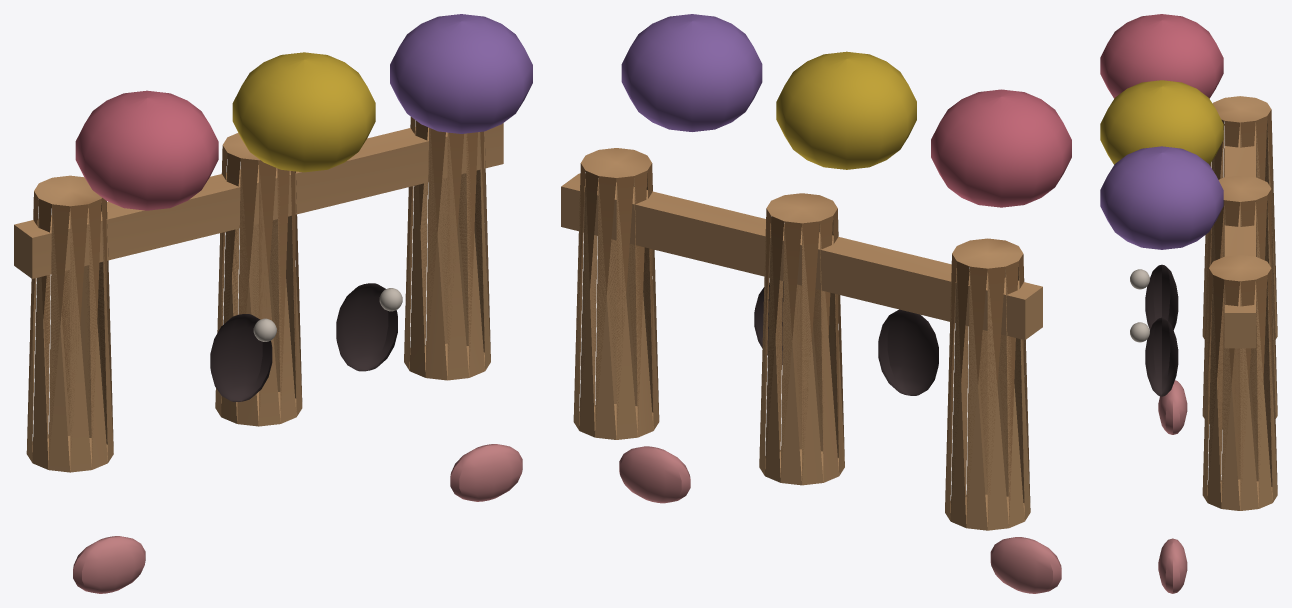
The picture shows the model from 3 angles, left to right: view 1: azimuth 30°, elevation 25°; view 2: azimuth 150°, elevation 25°; view 3: azimuth 270°, elevation 25°; orthographic projection. The views are drawn at different scales.
Visible parts, largest first — view 1: pet_p46929e70; view 2: pet_p46929e70; view 3: pet_p46929e70.
Part boxes in pixels (x1,y1,x2,y2): pet_p46929e70: (14, 14, 532, 593); pet_p46929e70: (561, 14, 1071, 593); pet_p46929e70: (1100, 14, 1277, 593).
Size of the model in its own units: 0.3 by 0.2984 by 0.1134.
